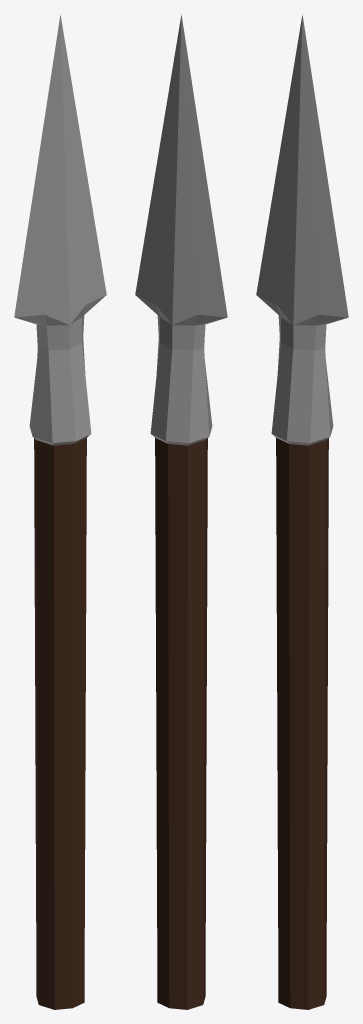
The model's file is SpearSpikeShort.fbx.
3 renders of one model, left to right at view 1: azimuth 30°, elevation 25°; view 2: azimuth 150°, elevation 25°; view 3: azimuth 330°, elevation 25°, orthographic.
Parts seen in each view (by area): view 1: SpearSpikeShort; view 2: SpearSpikeShort; view 3: SpearSpikeShort.
Boxes of the visible parts, x1,y1,x2,y2 form: SpearSpikeShort: [14, 14, 106, 1009]; SpearSpikeShort: [135, 14, 227, 1009]; SpearSpikeShort: [256, 14, 348, 1009].
Bounding box in the file's own units: 7.93 × 80.69 × 4.64.
